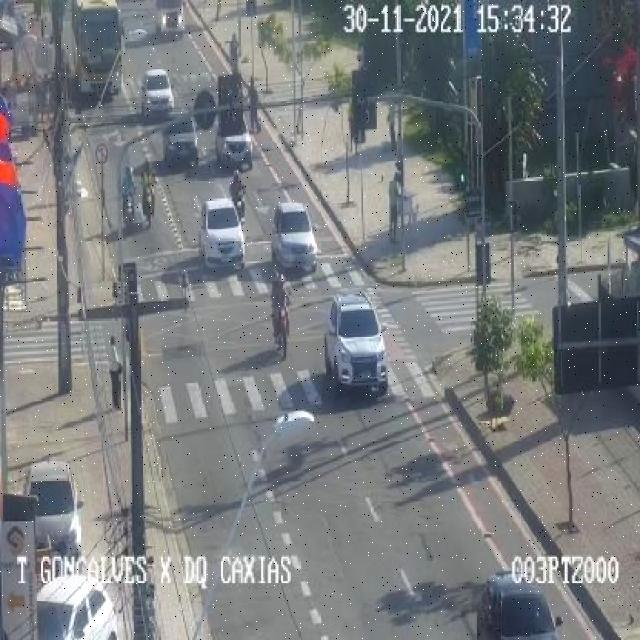Car: (317, 287, 389, 408), (15, 459, 84, 566), (27, 564, 124, 640), (467, 565, 560, 640), (270, 192, 316, 282), (191, 199, 240, 275), (133, 65, 181, 122), (154, 113, 203, 168), (218, 115, 252, 165)
Cycle: (255, 268, 298, 360), (114, 160, 144, 229), (222, 170, 258, 222), (135, 166, 162, 223)
